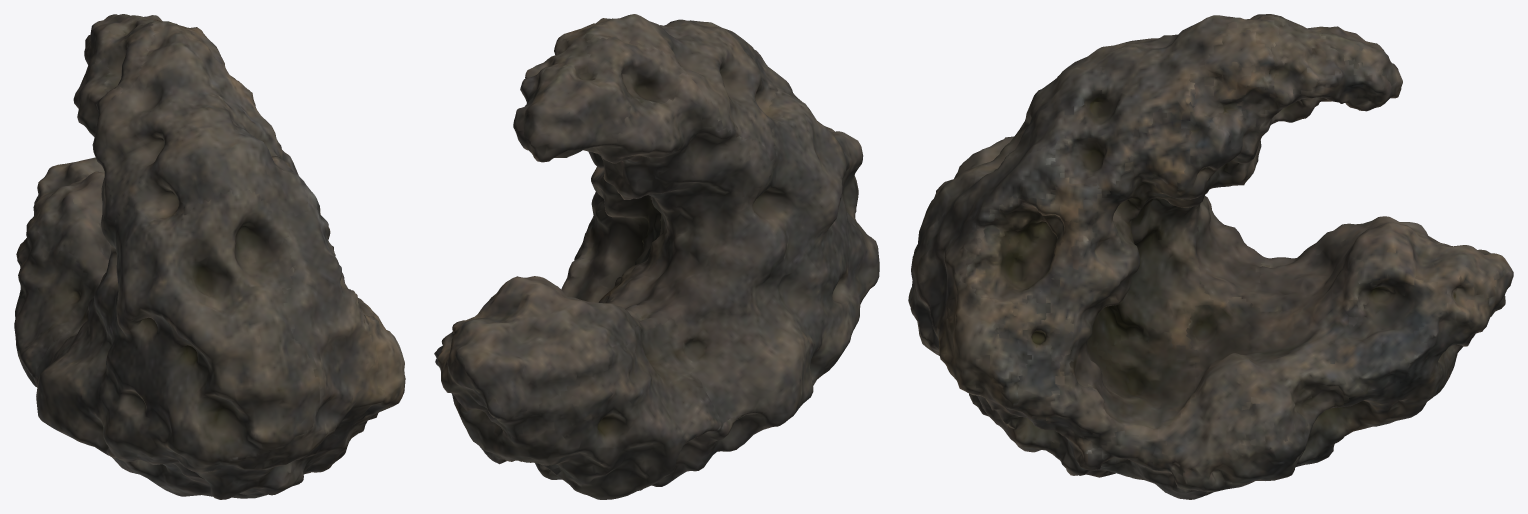
File: asteroid_rare_4_lod1.glb
The picture shows the model from 3 angles, left to right: view 1: azimuth 30°, elevation 25°; view 2: azimuth 150°, elevation 25°; view 3: azimuth 270°, elevation 25°; orthographic projection. The views are drawn at different scales.
Visible parts, largest first — view 1: model; view 2: model; view 3: model.
Part boxes in pixels (bbox=[...]): model: bbox=[14, 14, 405, 499]; model: bbox=[434, 14, 879, 499]; model: bbox=[908, 14, 1513, 499].
Size of the model in its own units: 1.09 by 1.56 by 1.9.
Materials: 1 (1 with a texture image).
